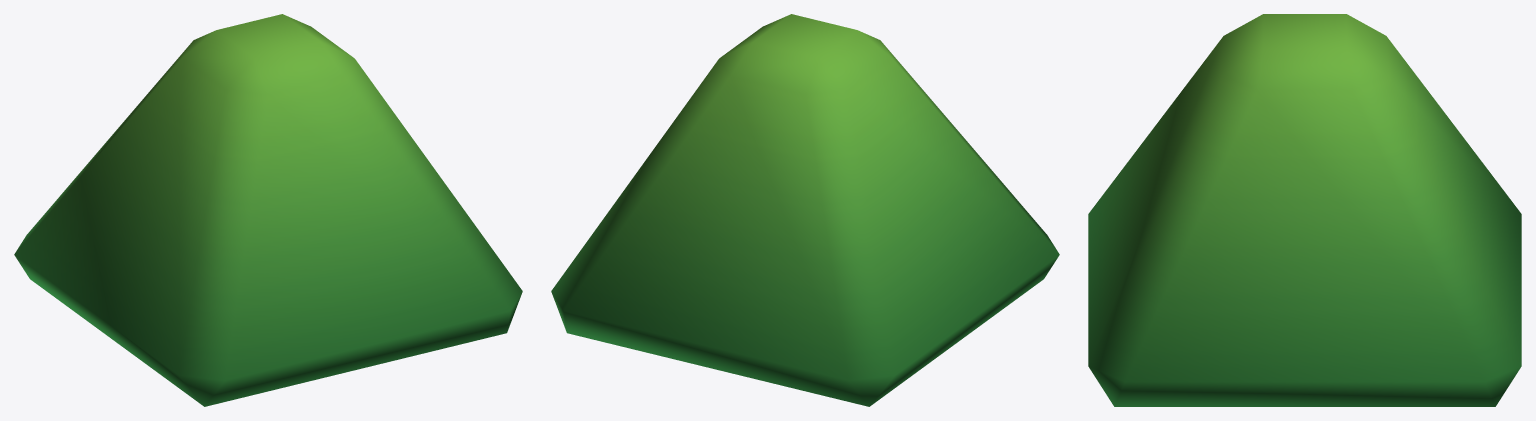
The model's file is Bush_4_B_Color1.glb.
The picture shows the model from 3 angles, left to right: view 1: azimuth 30°, elevation 25°; view 2: azimuth 150°, elevation 25°; view 3: azimuth 270°, elevation 25°; orthographic projection. The views are drawn at different scales.
Visible parts, largest first — view 1: Bush_4_B_Color1; view 2: Bush_4_B_Color1; view 3: Bush_4_B_Color1.
Boxes of the visible parts, x1=… form: Bush_4_B_Color1: x1=14, y1=14, x2=522, y2=406; Bush_4_B_Color1: x1=551, y1=14, x2=1059, y2=406; Bush_4_B_Color1: x1=1088, y1=14, x2=1521, y2=406.
Size of the model in its own units: 0.9908 by 0.7434 by 0.9908.
Materials: 1 (1 with a texture image).
